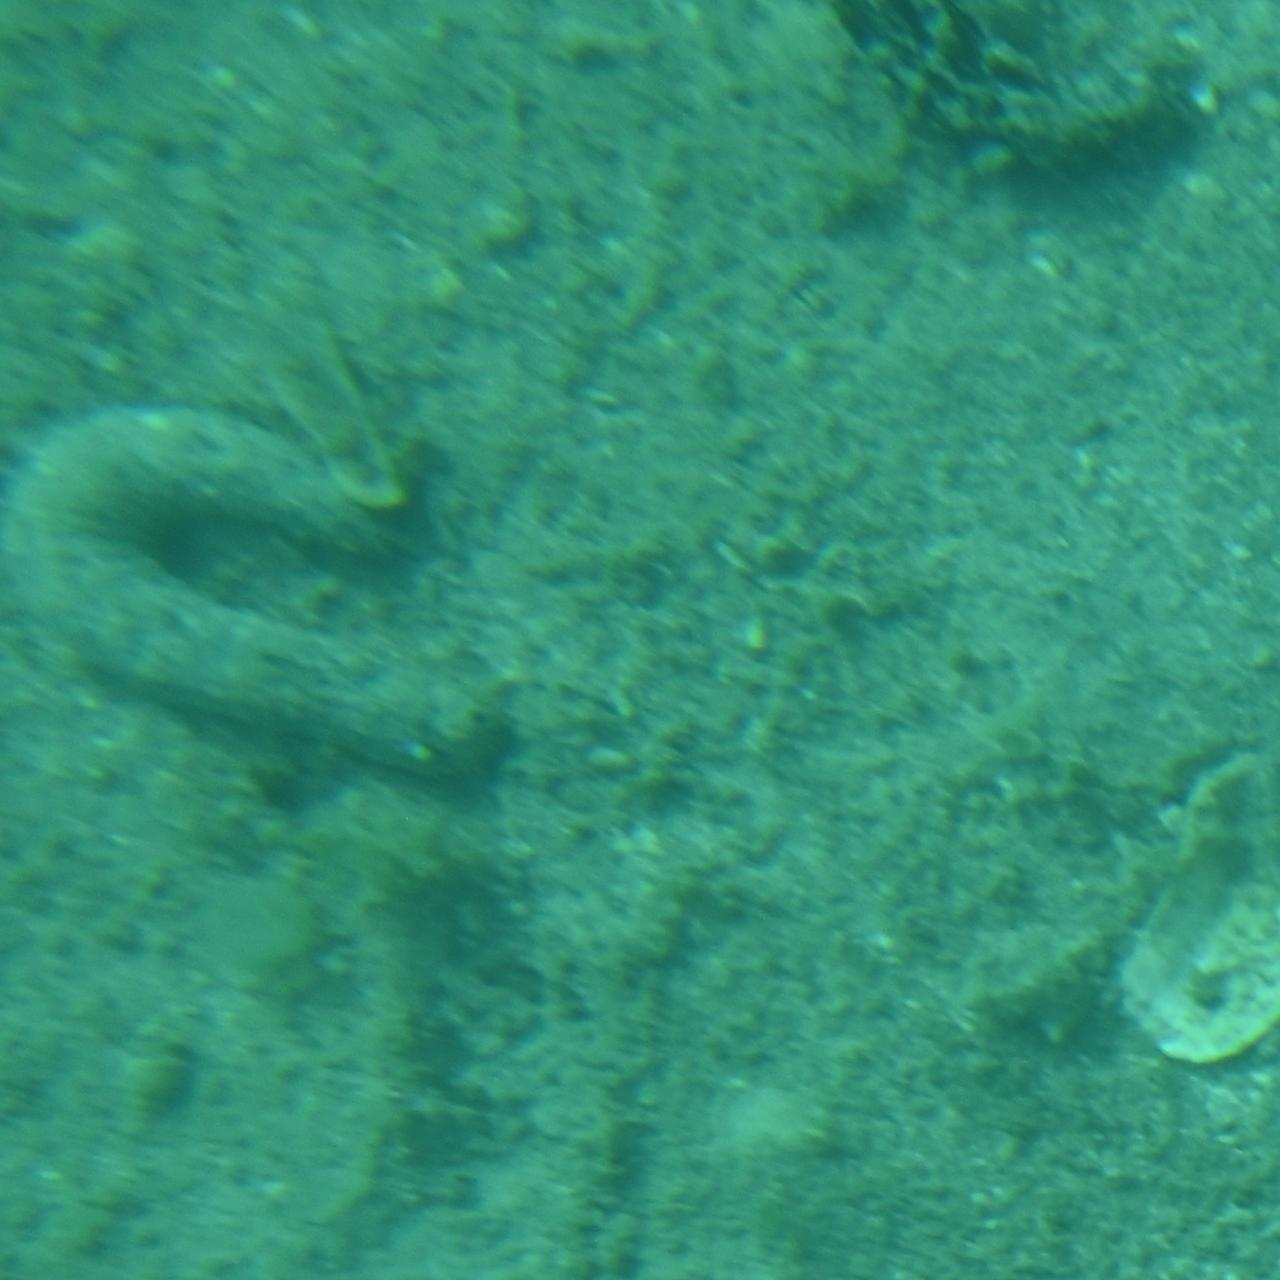Holothuria tubulosa: (0, 395, 550, 794), (822, 0, 1190, 206)
